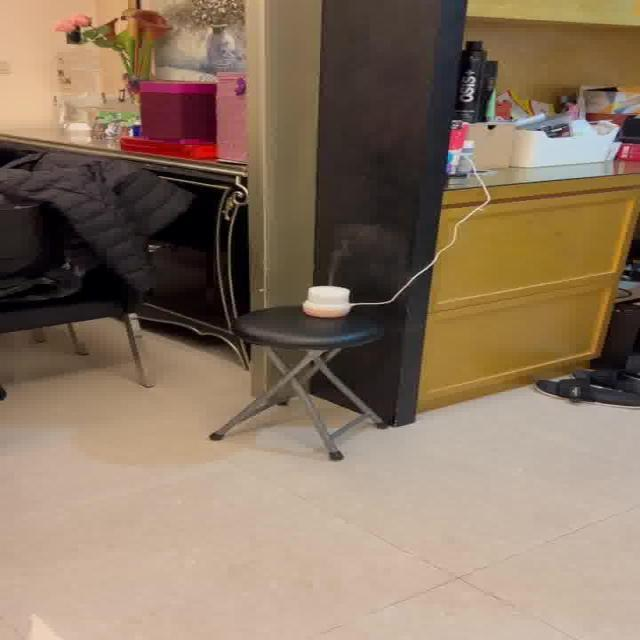fire: (323, 223, 397, 280)
